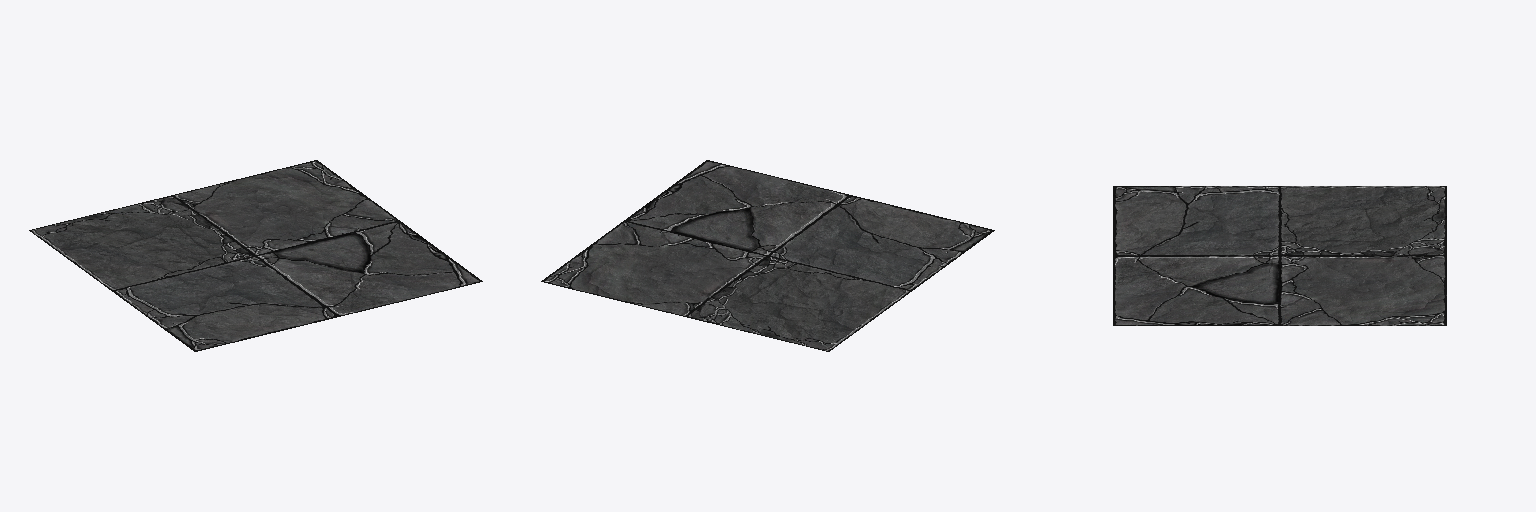
3 views of the same model, side by side, from view 1: azimuth 30°, elevation 25°; view 2: azimuth 150°, elevation 25°; view 3: azimuth 270°, elevation 25° (orthographic).
Parts seen in each view (by area): view 1: Plane; view 2: Plane; view 3: Plane.
Part boxes in pixels (left/top/right/bottom): Plane: left=29, top=160, right=482, bottom=351; Plane: left=541, top=160, right=994, bottom=351; Plane: left=1113, top=186, right=1446, bottom=325.
Size of the model in its own units: 2 by 0 by 2.
1 materials, 1 textured.